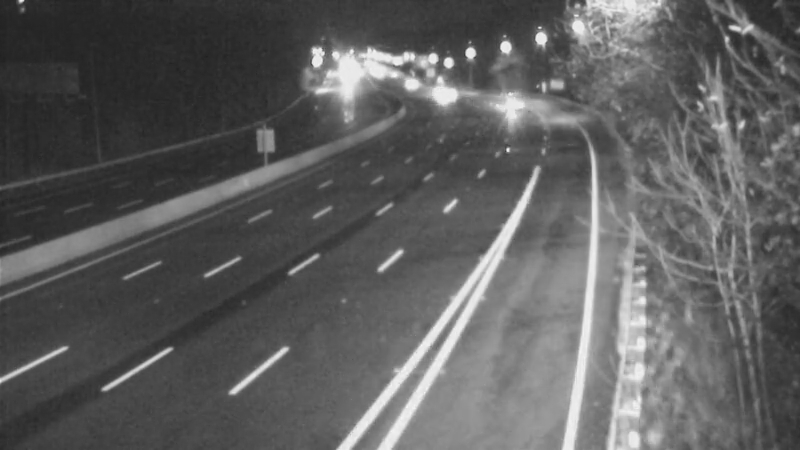vehicle: (382, 60, 432, 110), (418, 70, 468, 120), (486, 77, 536, 127)
